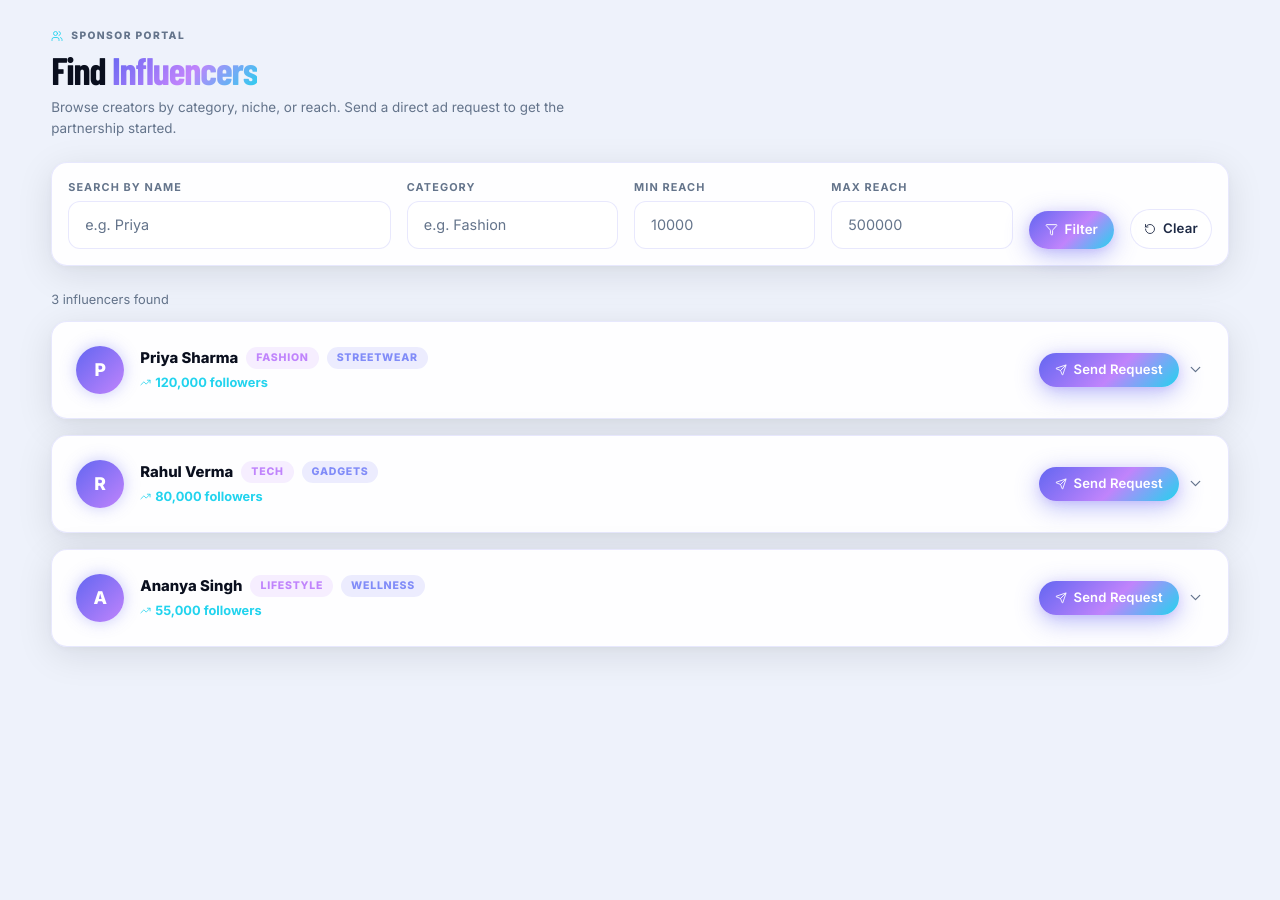
Scenario: InfluencerDirectory › expands card to show details when clicked
Click the text "Priya Sharma": (189, 358) [140, 347, 238, 369]
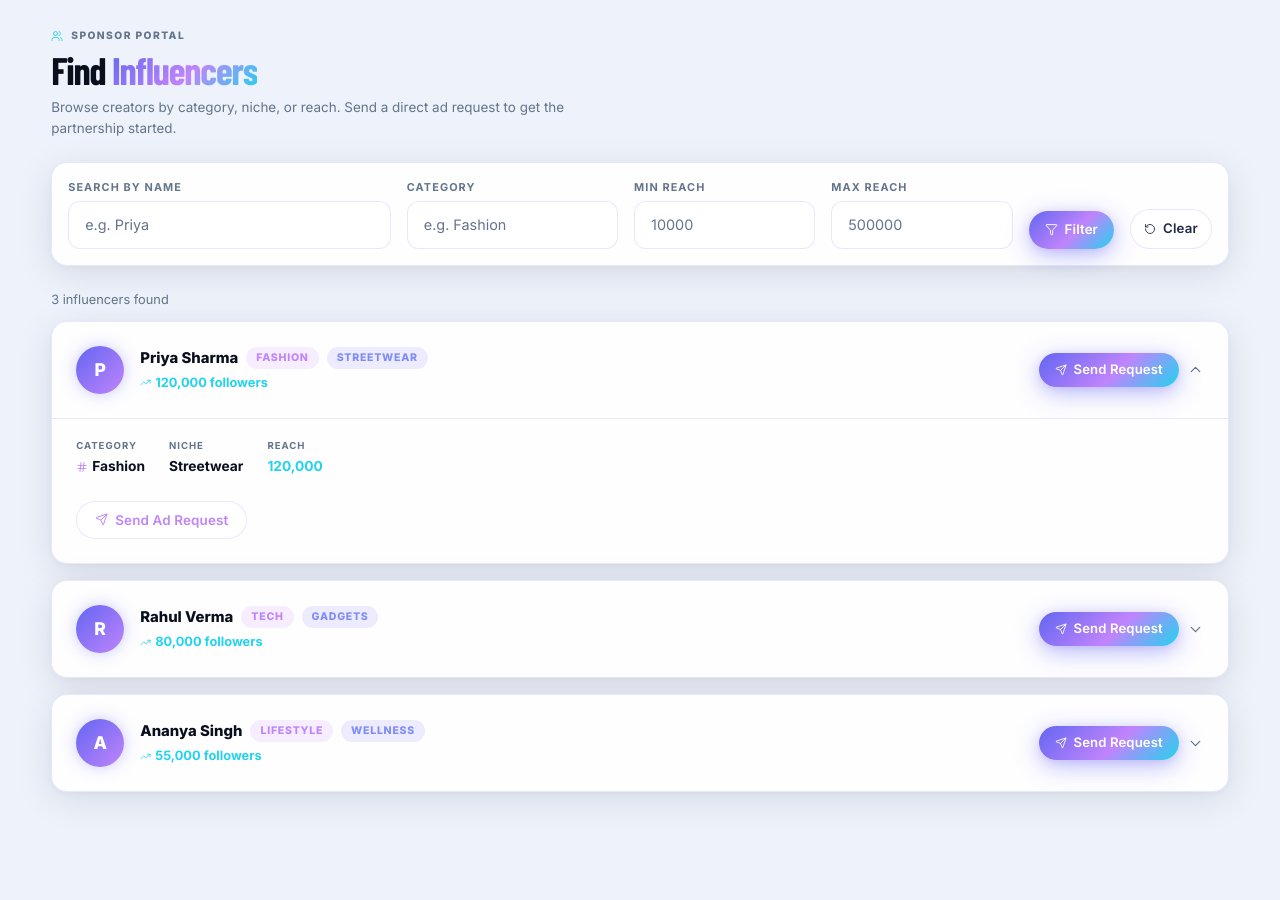
Expected: the button "Send Ad Request" is shown, [76, 501, 248, 539]
